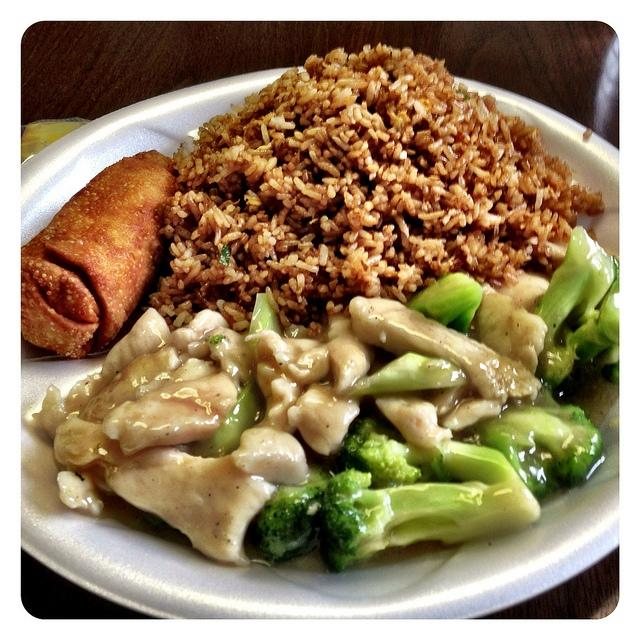broccoli: (318, 468, 540, 572), (464, 384, 604, 500), (532, 226, 614, 390), (334, 418, 516, 490), (552, 256, 618, 419), (243, 466, 328, 564), (188, 375, 266, 458), (344, 352, 466, 398), (407, 272, 483, 334), (249, 293, 284, 337), (592, 344, 618, 366)
